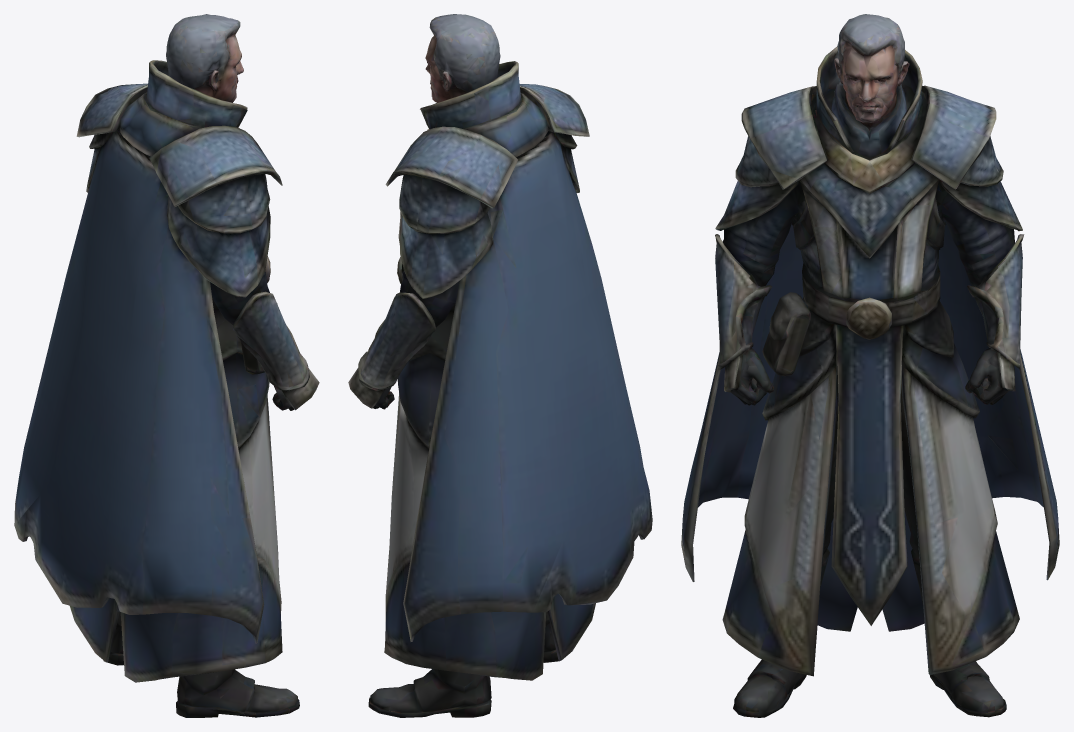
The model's file is elias.glb.
The picture shows the model from 3 angles, left to right: view 1: azimuth 30°, elevation 25°; view 2: azimuth 150°, elevation 25°; view 3: azimuth 270°, elevation 25°; orthographic projection. The views are drawn at different scales.
Visible parts, largest first — view 1: tripo_node_ffb6fe80-c962-4de4-9025-0b0663947e71; view 2: tripo_node_ffb6fe80-c962-4de4-9025-0b0663947e71; view 3: tripo_node_ffb6fe80-c962-4de4-9025-0b0663947e71.
Boxes of the visible parts, x1,y1,x2,y2 form: tripo_node_ffb6fe80-c962-4de4-9025-0b0663947e71: (14, 14, 319, 717); tripo_node_ffb6fe80-c962-4de4-9025-0b0663947e71: (348, 14, 652, 717); tripo_node_ffb6fe80-c962-4de4-9025-0b0663947e71: (681, 14, 1059, 717).
Size of the model in its own units: 0.3229 by 1 by 0.503.
Materials: 1 (1 with a texture image).
